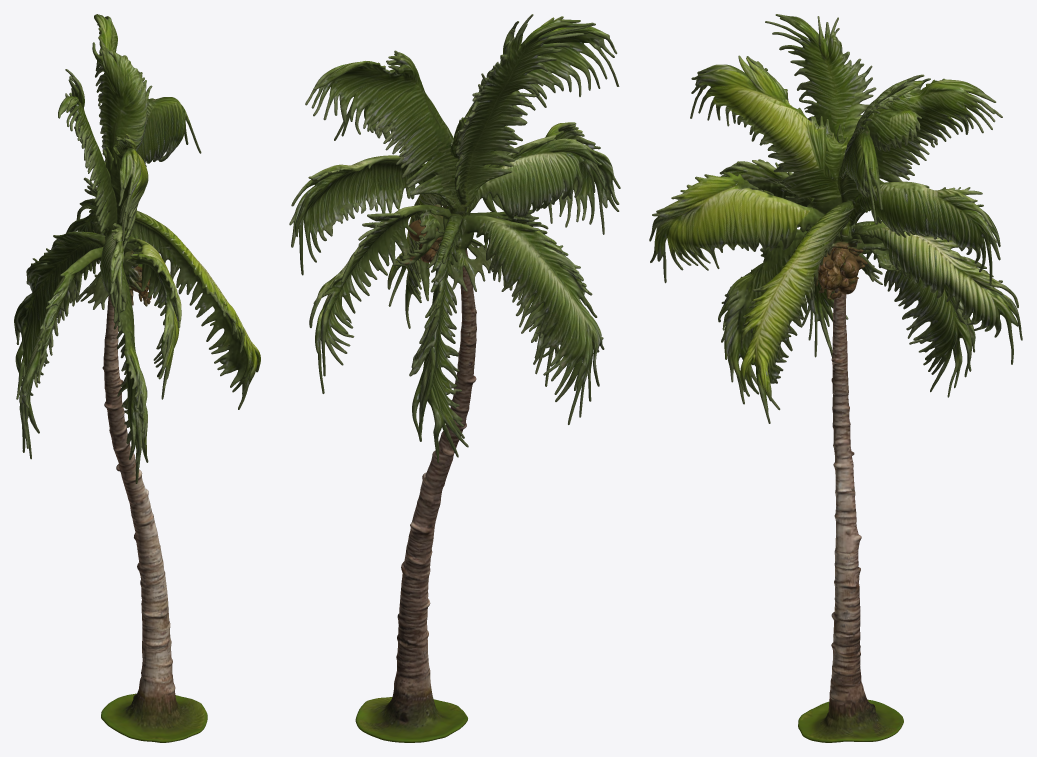
File: palmeras2_tripo_pbr_model_72477e6e-d757-4ade-aa32-447458cb3d6b_meshopt.glb
3 views of the same model, side by side, from view 1: azimuth 30°, elevation 25°; view 2: azimuth 150°, elevation 25°; view 3: azimuth 270°, elevation 25° (orthographic). The views are drawn at different scales.
Visible parts, largest first — view 1: tripo_node_72477e6e-d757-4ade-aa32-447458cb3d6b; view 2: tripo_node_72477e6e-d757-4ade-aa32-447458cb3d6b; view 3: tripo_node_72477e6e-d757-4ade-aa32-447458cb3d6b.
Boxes of the visible parts, x1,y1,x2,y2 form: tripo_node_72477e6e-d757-4ade-aa32-447458cb3d6b: (14,14,260,742); tripo_node_72477e6e-d757-4ade-aa32-447458cb3d6b: (289,14,620,742); tripo_node_72477e6e-d757-4ade-aa32-447458cb3d6b: (649,14,1022,742).
Size of the model in its own units: 0.34 by 1 by 0.508.
1 material, 1 textured.
